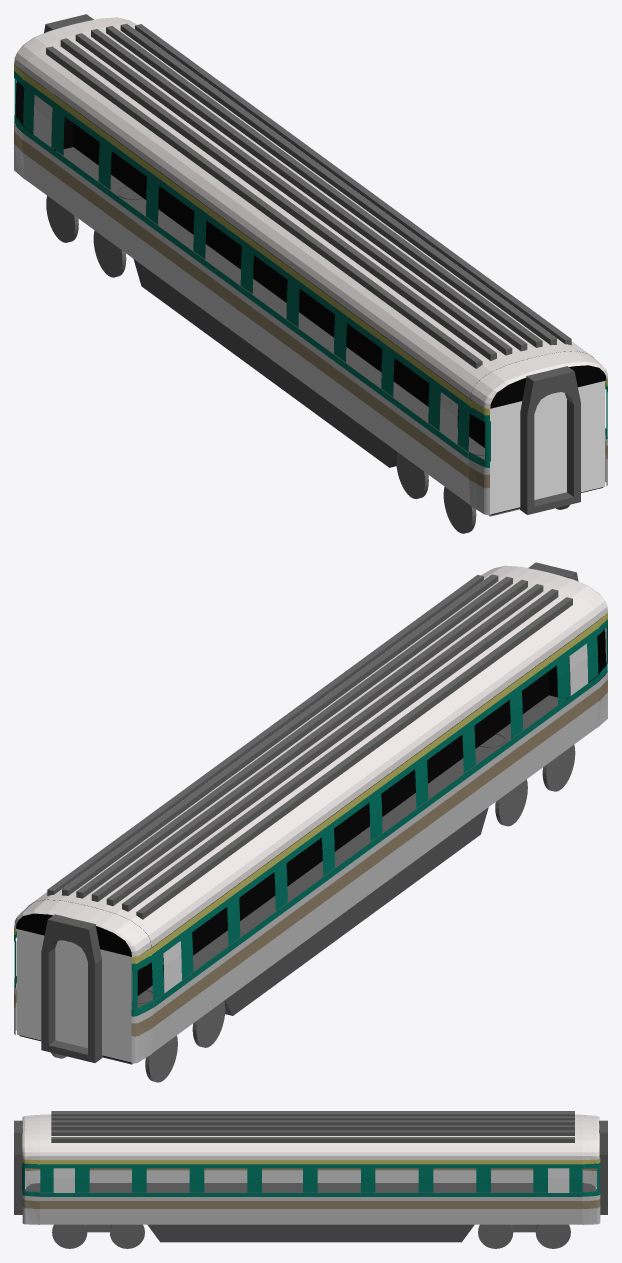
Rendered from br-mk3-fo-fgw1.dae.
3 views of the same model, one above another, from view 1: azimuth 30°, elevation 25°; view 2: azimuth 150°, elevation 25°; view 3: azimuth 270°, elevation 25° (orthographic). The views are drawn at different scales.
Parts seen in each view (by area): view 1: Suzanne_001, Plane_007, Plane_001, Plane_111, Cube_010, Cube, Cube_011, Cube_008, Cube_009, Cube_004, Plane_002, Cube_002 (+15 smaller); view 2: Suzanne_001, Plane_007, Plane_100, Plane_111, Cube, Cube_010, Cube_011, Cube_008, Cube_009, Cube_004, Plane_002, Cube_002 (+14 smaller); view 3: Plane_134, Suzanne_001, Cube, Plane_007, Plane_002, Cube_002, Cube_003, Cube_004, Cube_008, Plane_135, Plane_136, Cube_009 (+32 smaller).
Part boxes in pixels (left/top/right/bottom): Suzanne_001: left=24, top=24, right=593, bottom=398; Plane_007: left=23, top=140, right=470, bottom=504; Plane_001: left=490, top=381, right=605, bottom=514; Plane_111: left=73, top=109, right=484, bottom=447; Cube_010: left=60, top=38, right=496, bottom=360; Cube: left=133, top=259, right=396, bottom=467; Cube_011: left=46, top=46, right=482, bottom=368; Cube_008: left=91, top=29, right=527, bottom=351; Cube_009: left=75, top=33, right=512, bottom=355; Cube_004: left=106, top=26, right=542, bottom=347; Plane_002: left=56, top=147, right=489, bottom=468; Cube_002: left=120, top=23, right=556, bottom=345; Suzanne_001: left=28, top=573, right=596, bottom=947; Plane_007: left=151, top=688, right=598, bottom=1053; Plane_100: left=17, top=929, right=132, bottom=1062; Plane_111: left=135, top=657, right=548, bottom=995; Cube: left=224, top=807, right=488, bottom=1015; Cube_010: left=122, top=589, right=558, bottom=911; Cube_011: left=136, top=597, right=572, bottom=919; Cube_008: left=91, top=579, right=527, bottom=901; Cube_009: left=106, top=584, right=543, bottom=906; Cube_004: left=76, top=576, right=512, bottom=898; Plane_002: left=133, top=695, right=565, bottom=1016; Cube_002: left=62, top=574, right=498, bottom=895; Plane_134: left=40, top=1201, right=582, bottom=1224; Suzanne_001: left=40, top=1114, right=582, bottom=1159; Cube: left=147, top=1224, right=474, bottom=1242; Plane_007: left=40, top=1168, right=533, bottom=1182; Plane_002: left=25, top=1183, right=596, bottom=1196; Cube_002: left=51, top=1130, right=574, bottom=1135; Cube_003: left=51, top=1137, right=574, bottom=1142; Cube_004: left=51, top=1125, right=574, bottom=1130; Cube_008: left=51, top=1120, right=574, bottom=1125; Plane_135: left=40, top=1160, right=582, bottom=1164; Plane_136: left=40, top=1164, right=582, bottom=1168; Cube_009: left=51, top=1116, right=574, bottom=1120.
Bounding box in the file's own units: 2.08 × 13.39 × 2.81.
